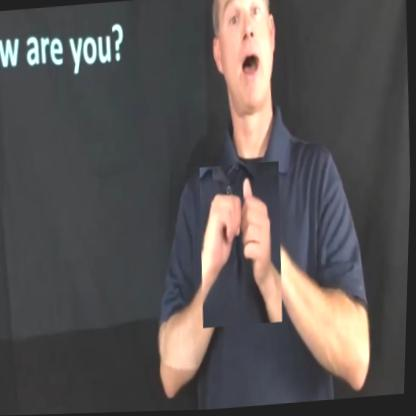HowAreYou: (197, 162, 288, 329)
